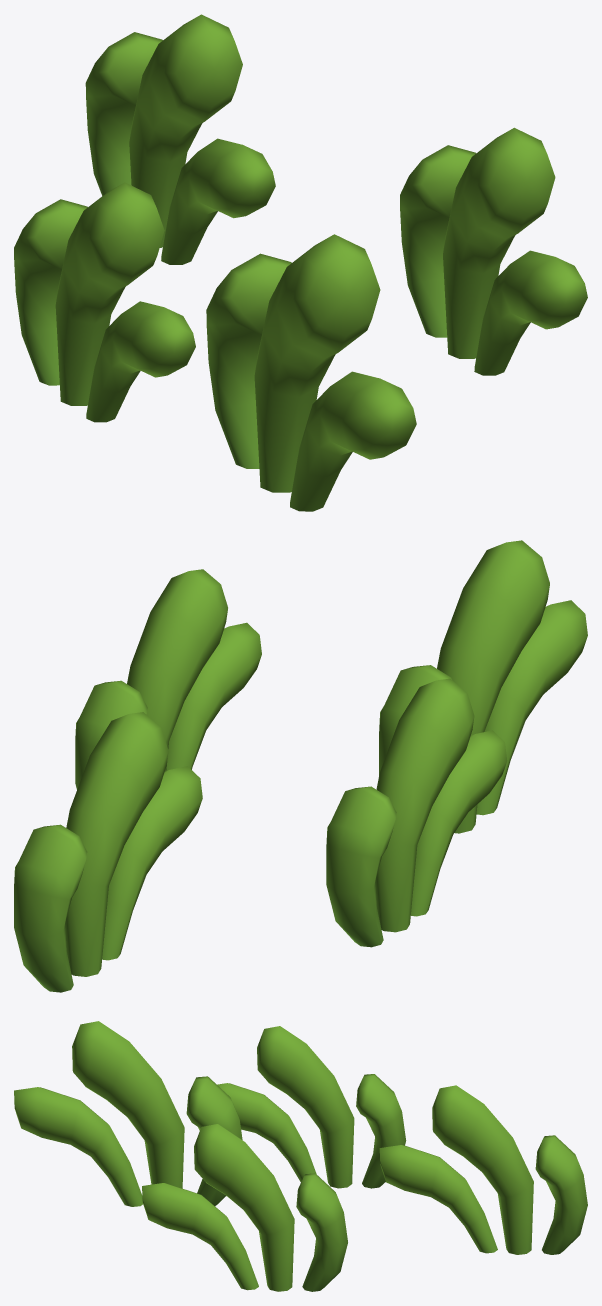
File: Plants.fbx
3 views of the same model, one above another, from view 1: azimuth 30°, elevation 25°; view 2: azimuth 150°, elevation 25°; view 3: azimuth 270°, elevation 25° (orthographic). The views are drawn at different scales.
Visible parts, largest first — view 1: Plants; view 2: Plants; view 3: Plants.
Boxes of the visible parts, bbox=[...] form: Plants: bbox=[14, 14, 587, 511]; Plants: bbox=[14, 540, 587, 992]; Plants: bbox=[14, 1021, 587, 1291].
Size of the model in its own units: 467 by 305 by 875.
